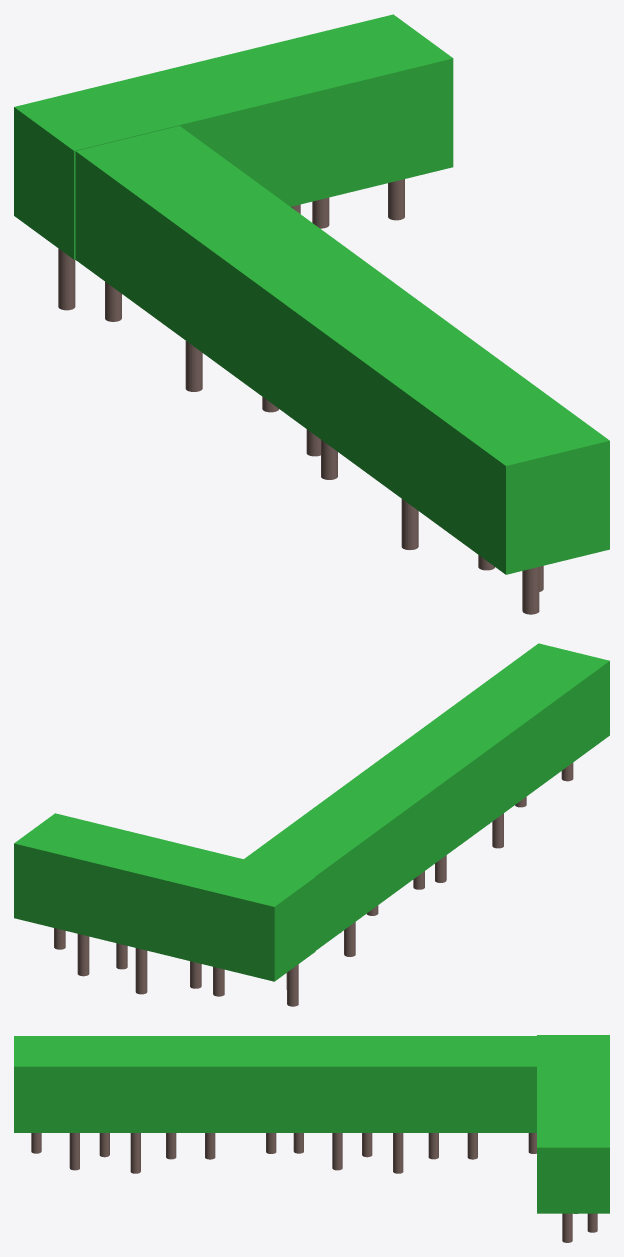
Rendered from arbustoE2.glb.
The picture shows the model from 3 angles, top to bottom: view 1: azimuth 30°, elevation 25°; view 2: azimuth 150°, elevation 25°; view 3: azimuth 270°, elevation 25°; orthographic projection. The views are drawn at different scales.
Visible parts, largest first — view 1: Cube.053, Cube.035, Cube.051, Cylinder.003, Cylinder.071, Cylinder.060, Cylinder.067; view 2: Cube.035, Cube.053, Cube.051, Cylinder.007, Cylinder.006; view 3: Cube.053, Cube.051, Cube.035, Cylinder.070, Cylinder.063, Cylinder.062, Cylinder.069, Cylinder.008.
Part boxes in pixels (<box>): Cube.053: <box>287,280,609,574</box>; Cube.035: <box>14,14,453,259</box>; Cube.051: <box>75,126,390,414</box>; Cylinder.003: <box>58,248,75,310</box>; Cylinder.071: <box>522,567,539,614</box>; Cylinder.060: <box>185,341,202,391</box>; Cylinder.067: <box>401,499,418,550</box>; Cube.035: <box>14,813,315,981</box>; Cube.053: <box>388,643,609,844</box>; Cube.051: <box>244,753,460,950</box>; Cylinder.007: <box>135,948,147,994</box>; Cylinder.006: <box>77,934,89,976</box>; Cube.053: <box>14,1036,280,1132</box>; Cube.051: <box>276,1036,536,1132</box>; Cube.035: <box>537,1035,609,1213</box>; Cylinder.070: <box>130,1133,140,1173</box>; Cylinder.063: <box>393,1133,403,1173</box>; Cylinder.062: <box>332,1133,342,1170</box>; Cylinder.069: <box>69,1133,79,1170</box>; Cylinder.008: <box>562,1213,572,1242</box>.
Bounding box in the file's own units: 12.51 × 5.79 × 27.99.
